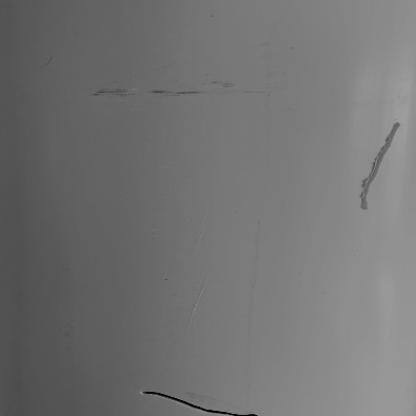fengxi: (139, 387, 261, 416)
sunshang: (356, 118, 402, 211), (88, 82, 255, 104)
